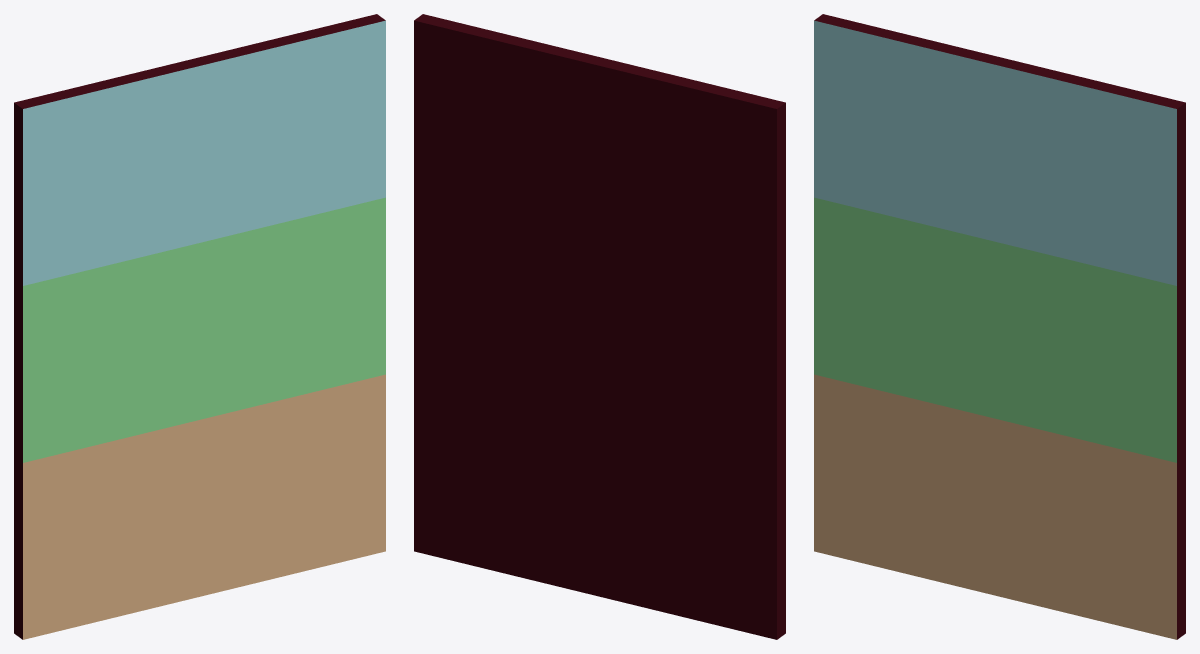
File: Banderas.fbx
3 renders of one model, left to right at view 1: azimuth 30°, elevation 25°; view 2: azimuth 150°, elevation 25°; view 3: azimuth 330°, elevation 25°, orthographic.
Parts seen in each view (by area): view 1: Cube; view 2: Cube; view 3: Cube.
Boxes of the visible parts, <box> form: Cube: <box>14,14,385,639</box>; Cube: <box>414,14,785,639</box>; Cube: <box>814,14,1185,639</box>.
Bounding box in the file's own units: 105 × 147 × 4.48.
